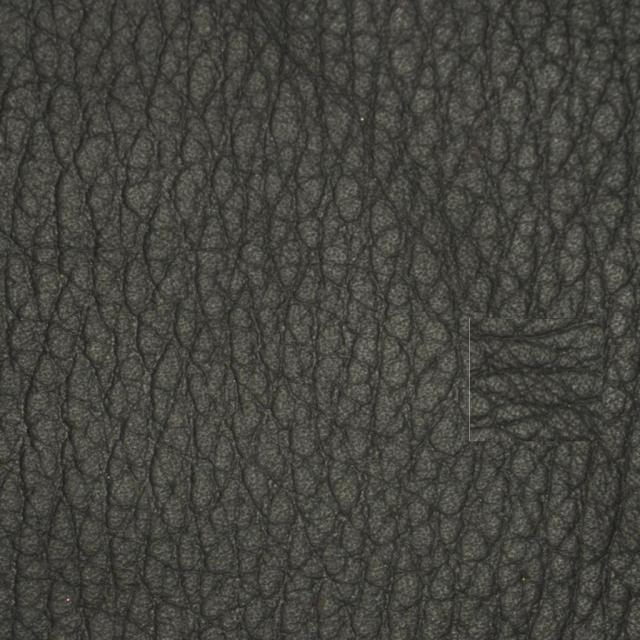Healed Injury: (433, 286, 602, 464), (289, 48, 442, 202)
